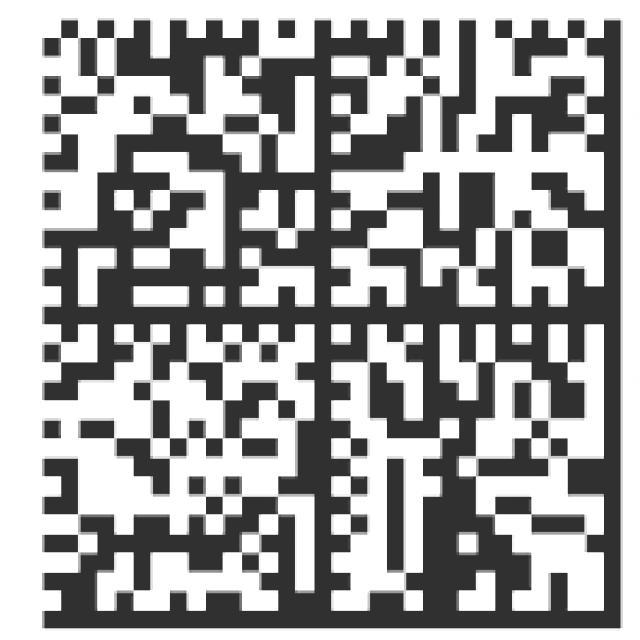Data-Matrix: (30, 9, 629, 640)
